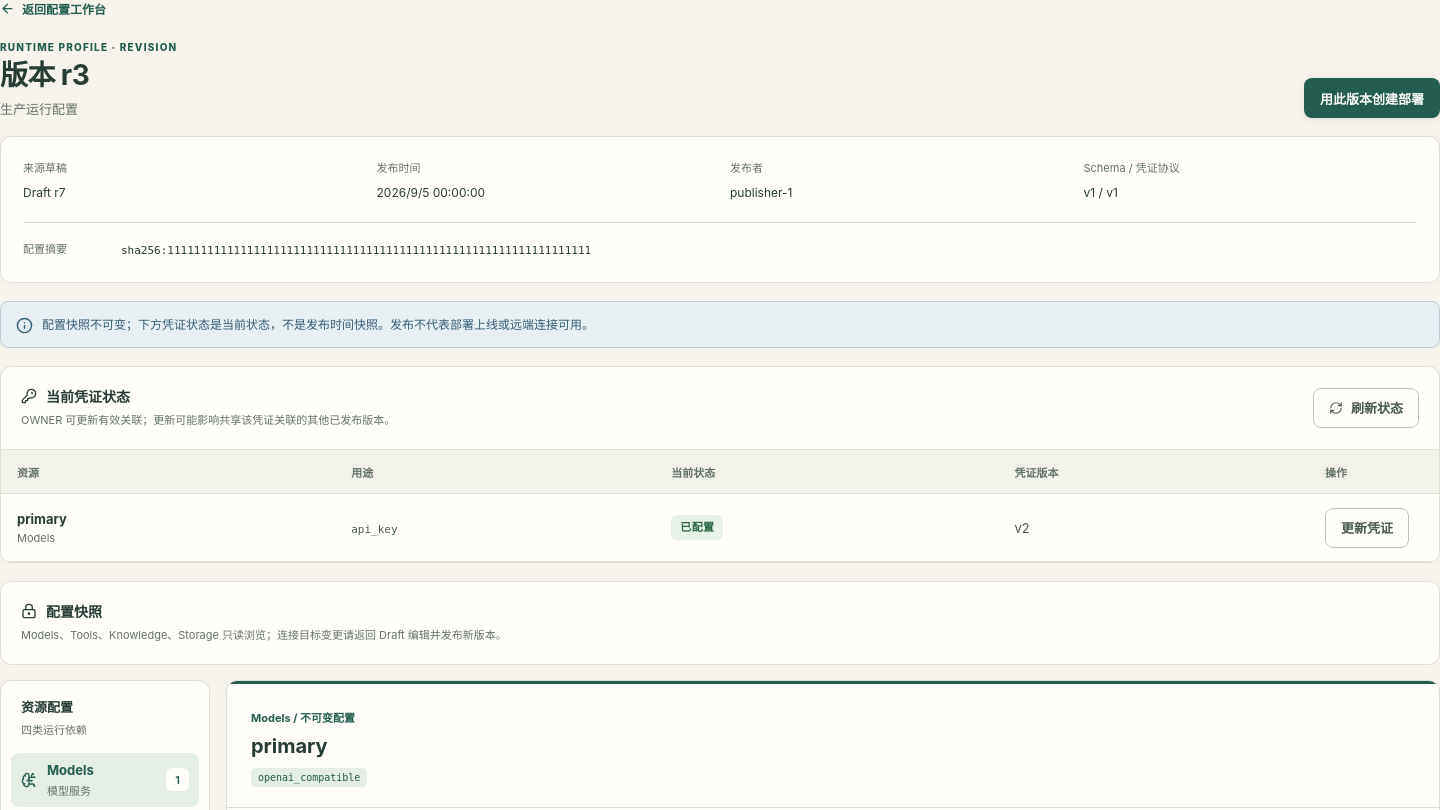
Test: ProfileRevisionDetail › does not offer a live retry when conflict refresh says the association was cleared
This screenshot has width=1440, height=810.
Click the button with aria-label "更新 Models / primary / api_key" at (1367, 528), box [1325, 508, 1409, 548]
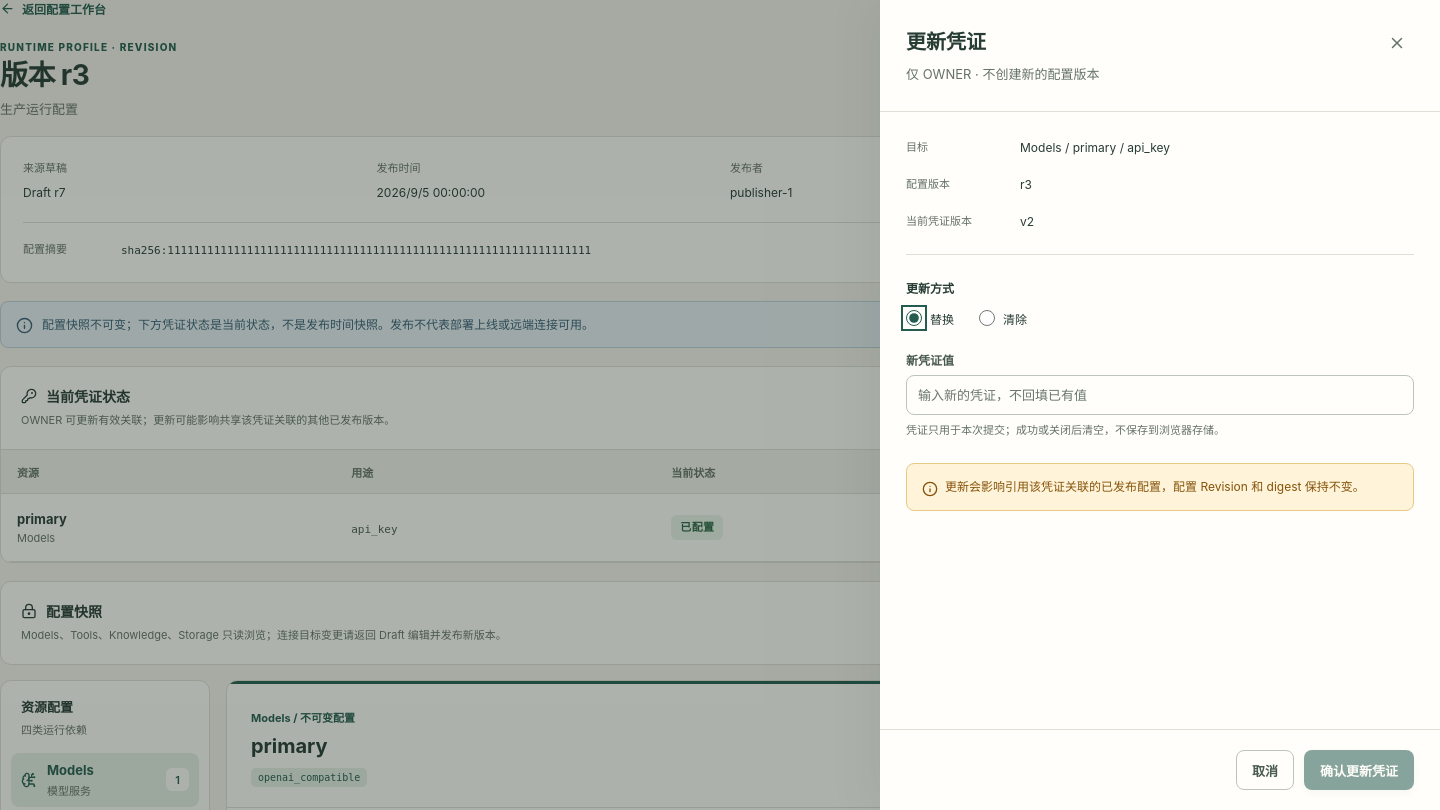
Type "test-value" into the password field labelled "新凭证值" at (1160, 395), box [906, 375, 1414, 415]
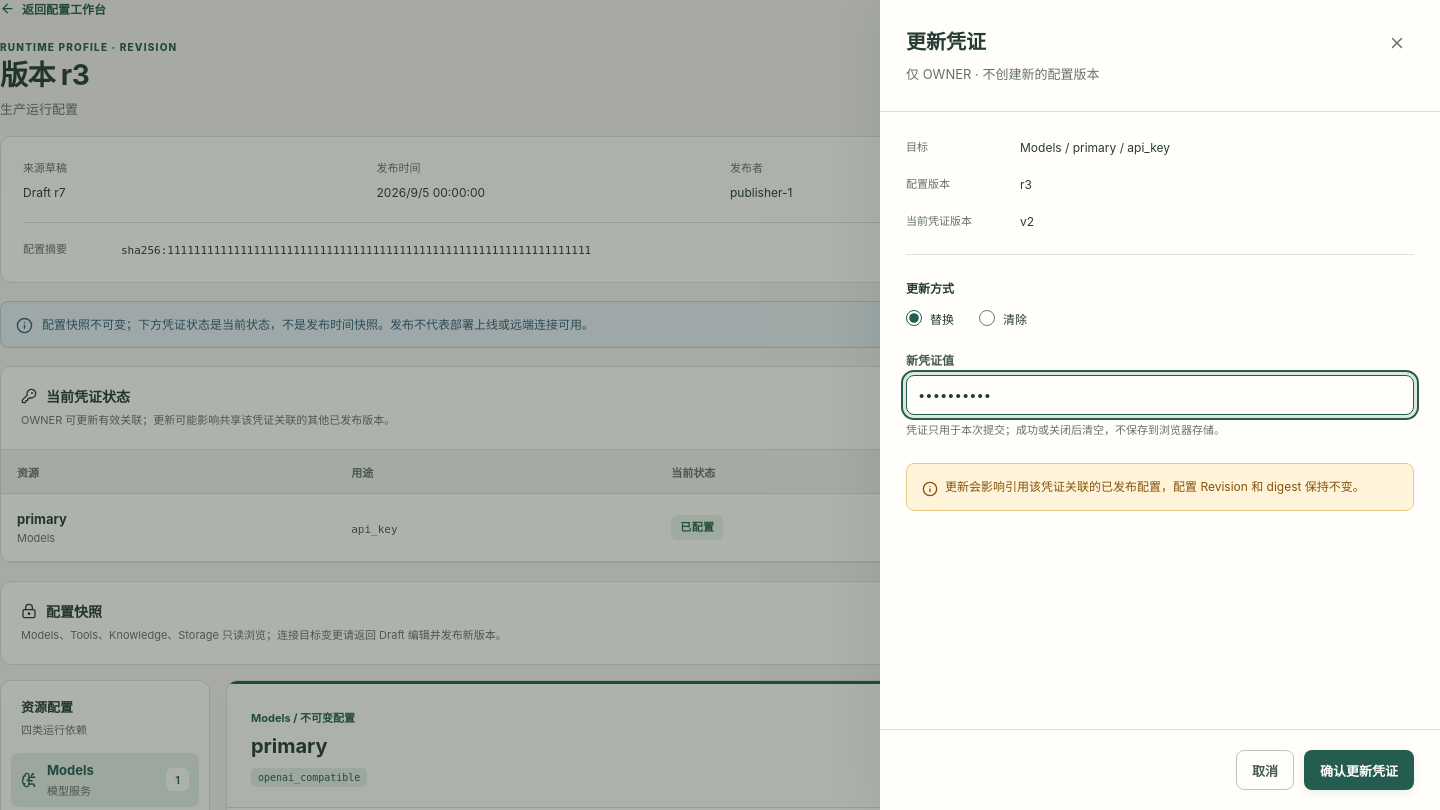
Click the button "确认更新凭证" at (1359, 770), box [1304, 750, 1414, 790]
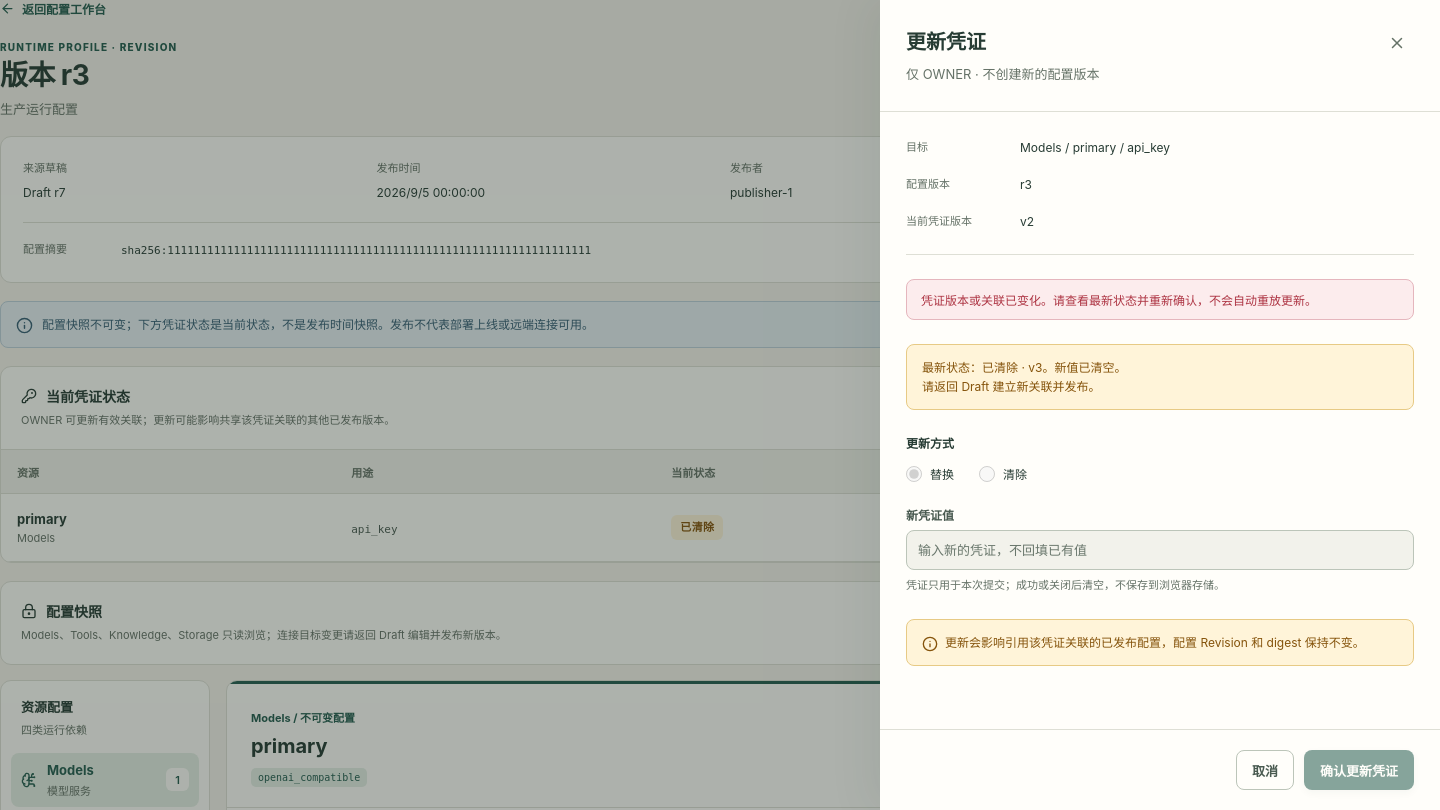
Now the text "请返回 Draft 建立新关联并发布。" is shown, box [922, 379, 1101, 394]
Now the button "确认更新凭证" is disabled, box [1304, 750, 1414, 790]
